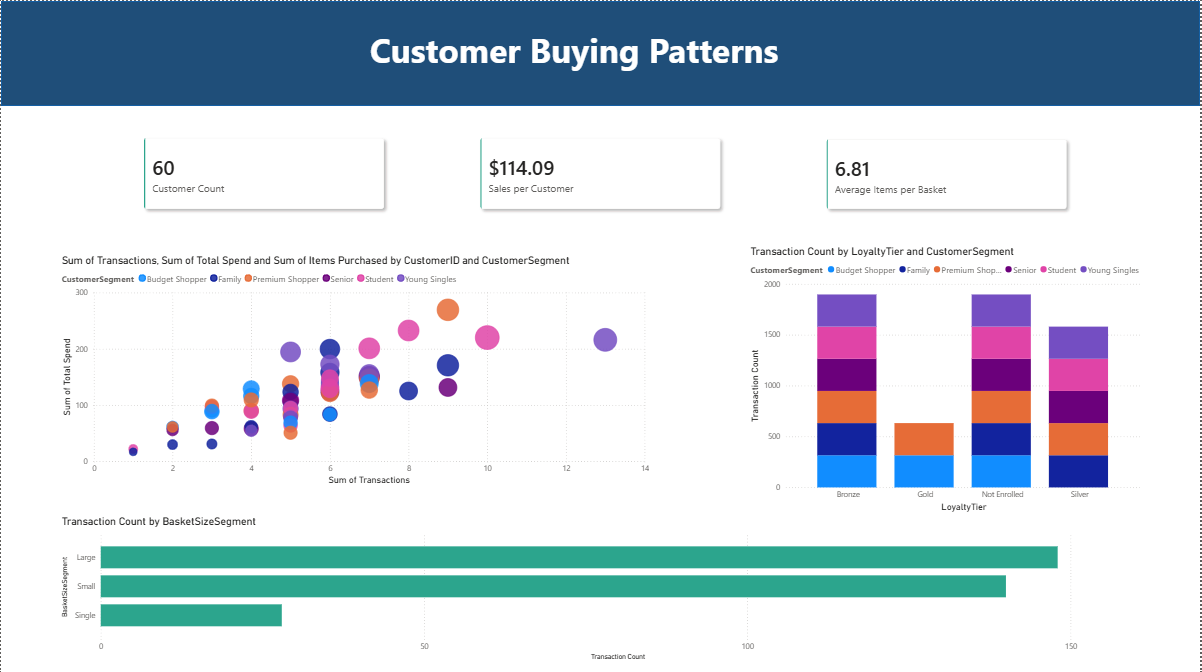

What the dashboard file says about the page in this screenshot:
{"tool":"powerbi","page":{"name":"Customer Buying Patterns","canvas":[1920,1080],"ordinal":2},"visuals":[{"type":"cardVisual","fields":{"Data":["FactTransactions.Customer Count"]},"box":[200,190,442,172],"z":0},{"type":"cardVisual","fields":{"Data":["FactTransactions.Sales per Customer"]},"box":[738,190,442,172],"z":1000},{"type":"cardVisual","fields":{"Data":["FactTransactions.Average Items per Basket"]},"box":[1292,192,442,170],"z":2000},{"type":"scatterChart","fields":{"X":["Sum(Customer Summary.Transactions)"],"Y":["Sum(Customer Summary.Total Spend)"],"Size":["Sum(Customer Summary.Items Purchased)"],"Series":["Customer Summary.CustomerSegment"],"Category":["Customer Summary.CustomerID"]},"box":[92,404,950,376],"z":3000},{"type":"actionButton","box":[0,0,100,40],"z":4000},{"type":"columnChart","fields":{"Category":["Customer Summary.LoyaltyTier"],"Series":["Customer Summary.CustomerSegment"],"Y":["FactTransactions.Transaction Count"]},"box":[1194,390,636,432],"z":5000},{"type":"barChart","fields":{"Y":["FactTransactions.Transaction Count"],"Category":["FactTransactions.BasketSizeSegment"]},"box":[92,822,1738,238],"z":6000},{"type":"shape","box":[0,0,1920,168],"z":7000},{"type":"textbox","box":[176,36,1482,96],"z":7001}]}

Visuals, with their boxes in screenshot pixels (x1, y1, x2, y2), scaled from the page's 1920x1080 canvas onto the 1202x672 screenshot:
cardVisual - FactTransactions.Customer Count: (left=125, top=118, right=402, bottom=225)
cardVisual - FactTransactions.Sales per Customer: (left=462, top=118, right=739, bottom=225)
cardVisual - FactTransactions.Average Items per Basket: (left=809, top=119, right=1086, bottom=225)
scatterChart - Sum(Customer Summary.Transactions) x Sum(Customer Summary.Total Spend): (left=58, top=251, right=652, bottom=485)
actionButton: (left=0, top=0, right=63, bottom=25)
columnChart - Customer Summary.LoyaltyTier x Customer Summary.CustomerSegment: (left=747, top=243, right=1146, bottom=511)
barChart - FactTransactions.Transaction Count x FactTransactions.BasketSizeSegment: (left=58, top=511, right=1146, bottom=660)
shape: (left=0, top=0, right=1201, bottom=105)
textbox: (left=110, top=22, right=1038, bottom=82)
